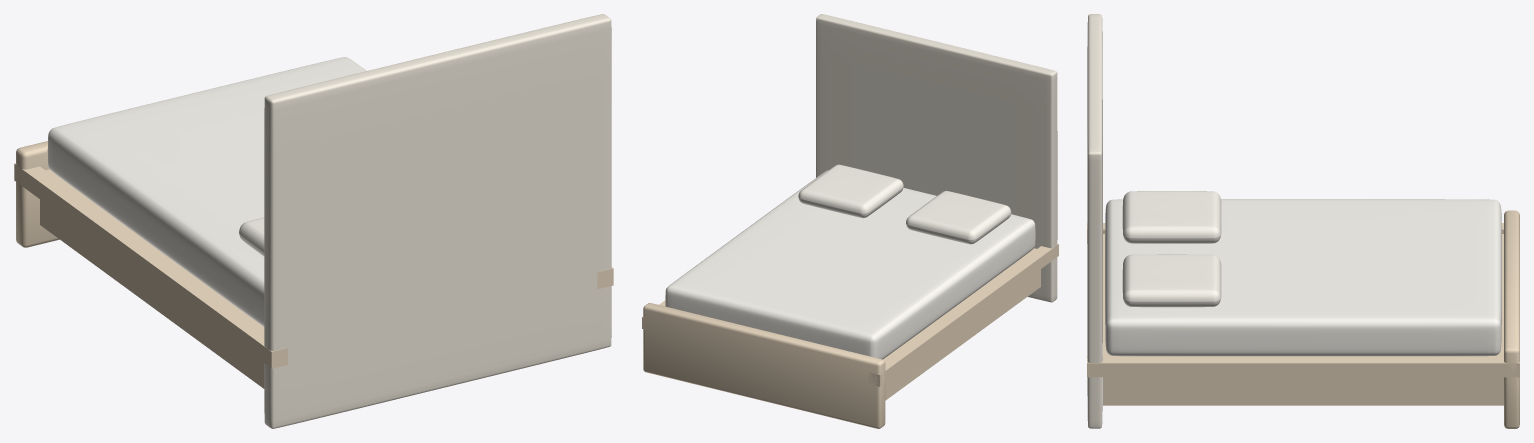
The picture shows the model from 3 angles, left to right: view 1: azimuth 30°, elevation 25°; view 2: azimuth 150°, elevation 25°; view 3: azimuth 270°, elevation 25°; orthographic projection. The views are drawn at different scales.
Size of the model in its own units: 1.68 by 1.55 by 2.19.
